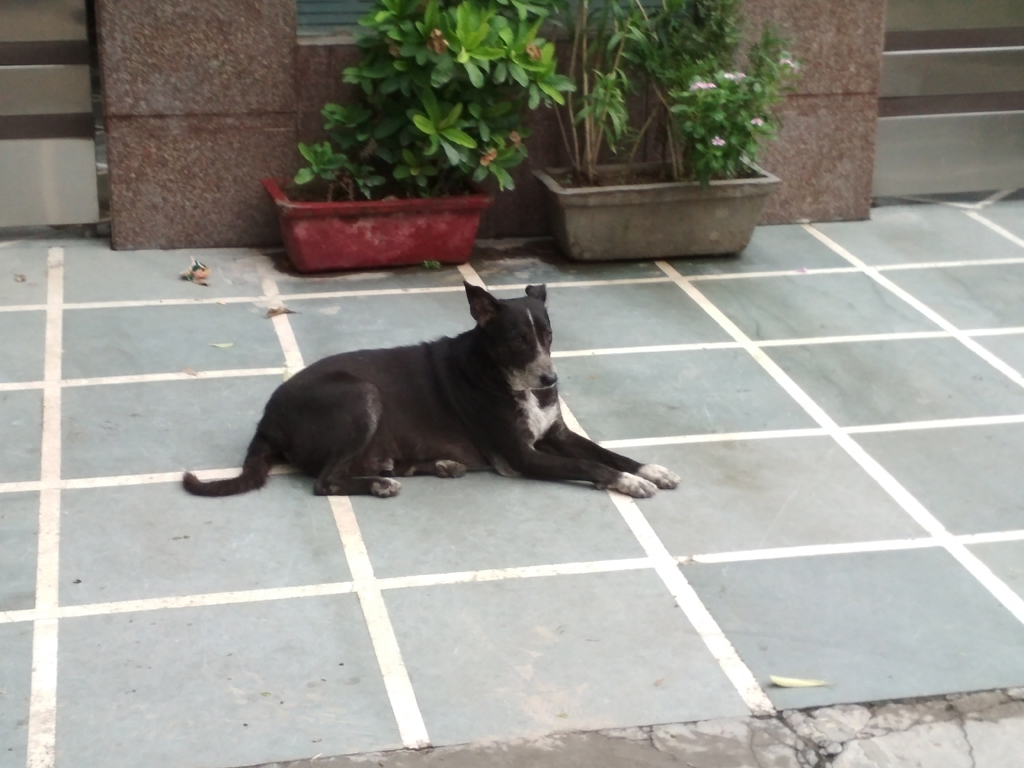dog: (184, 282, 681, 500)
